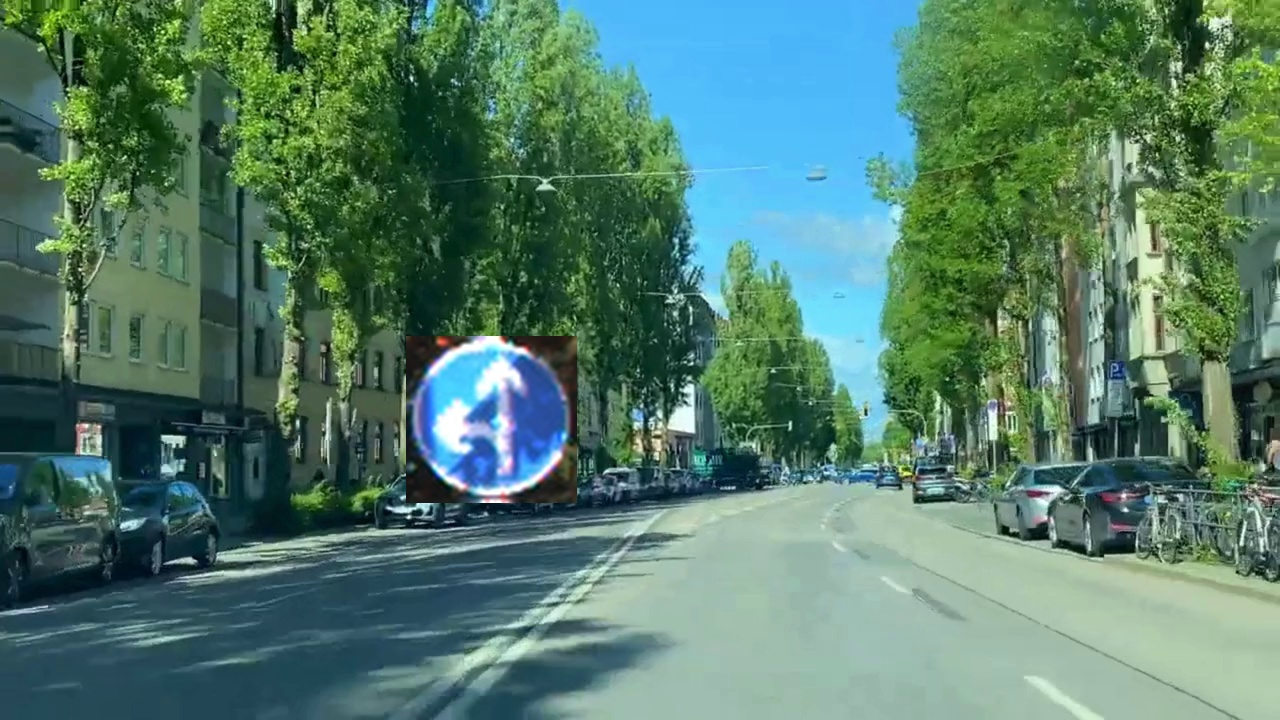Straight/left: (406, 336, 577, 503)
